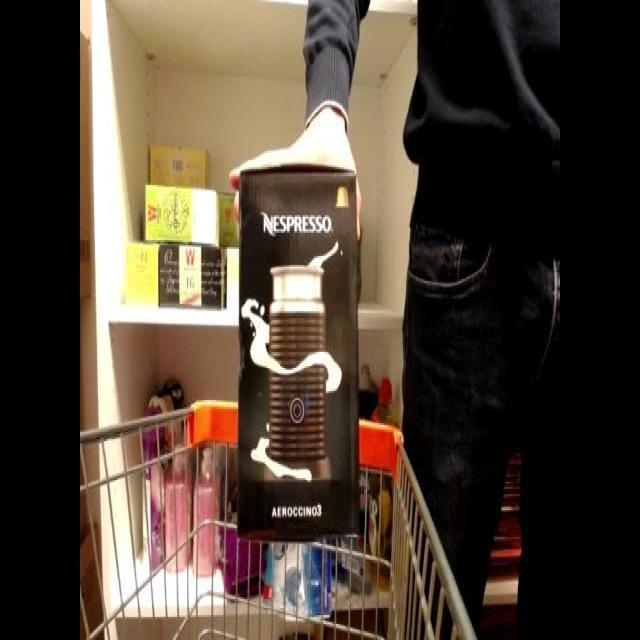Nespresso: (222, 152, 372, 559)
